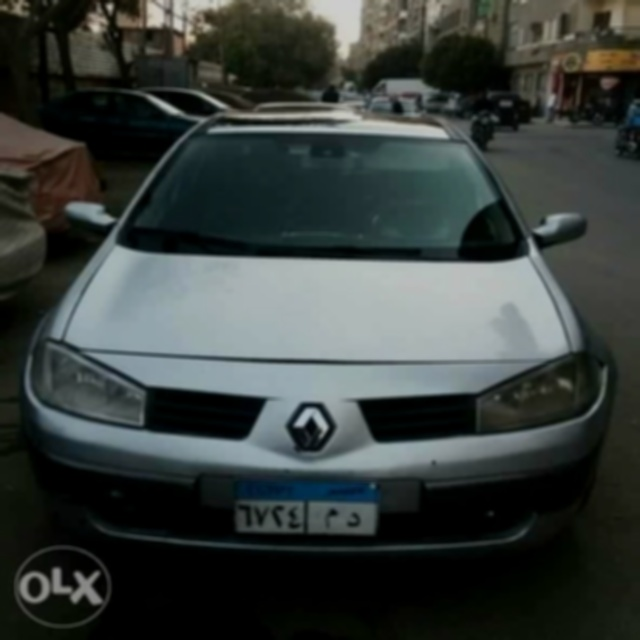License Plate: (230, 476, 382, 538)
